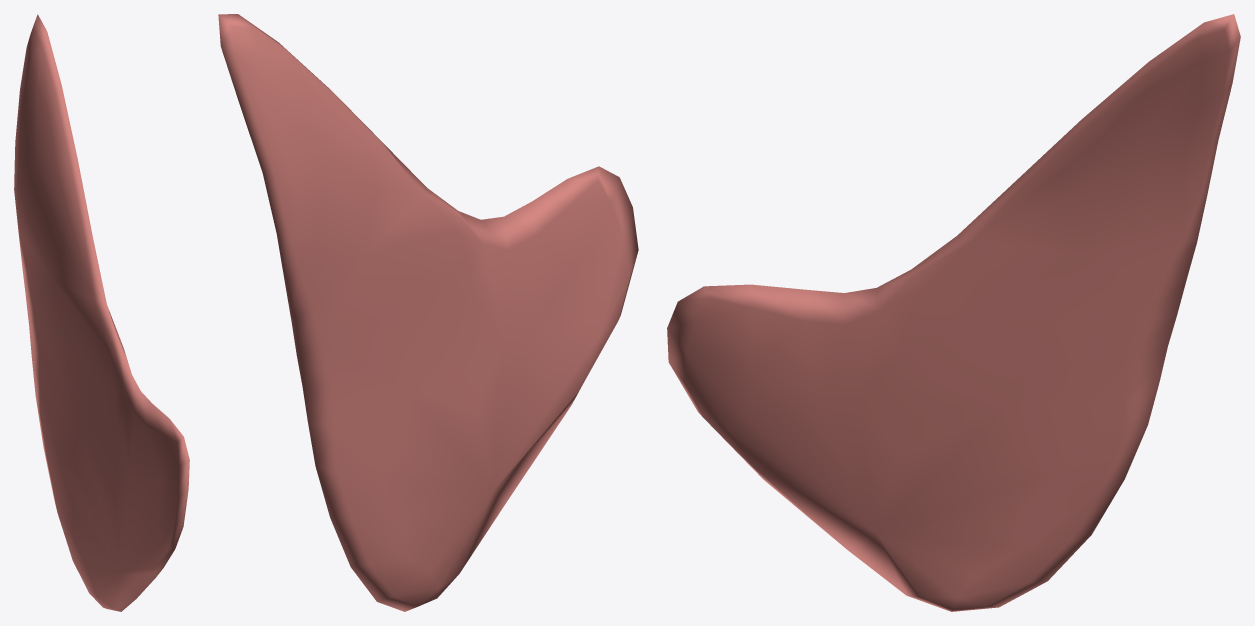
The picture shows the model from 3 angles, left to right: view 1: azimuth 30°, elevation 25°; view 2: azimuth 150°, elevation 25°; view 3: azimuth 270°, elevation 25°; orthographic projection. The views are drawn at different scales.
Visible parts, largest first — view 1: ZA_b5f53bebd643b4bf; view 2: ZA_b5f53bebd643b4bf; view 3: ZA_b5f53bebd643b4bf.
Boxes of the visible parts, x1,y1,x2,y2 form: ZA_b5f53bebd643b4bf: (14,14,189,611); ZA_b5f53bebd643b4bf: (218,14,638,611); ZA_b5f53bebd643b4bf: (667,14,1240,611).
Size of the model in its own units: 0.00317 by 0.0182 by 0.0152.
